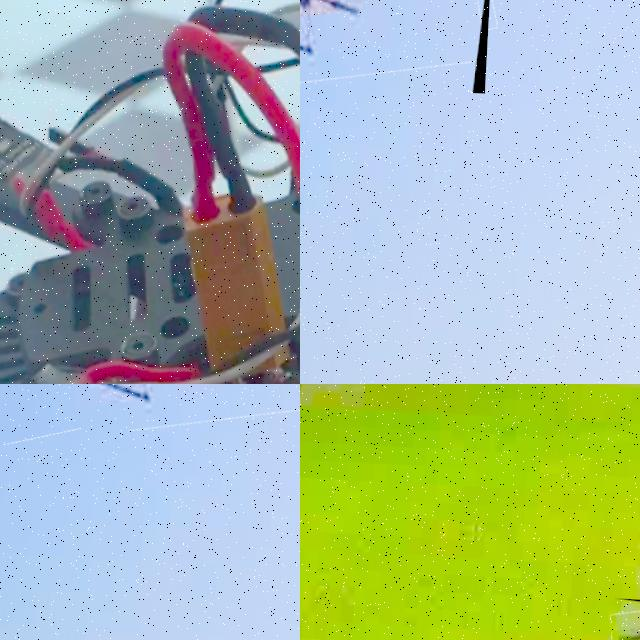drone: (0, 0, 300, 384), (300, 0, 495, 94), (0, 384, 300, 441), (610, 598, 640, 640)
